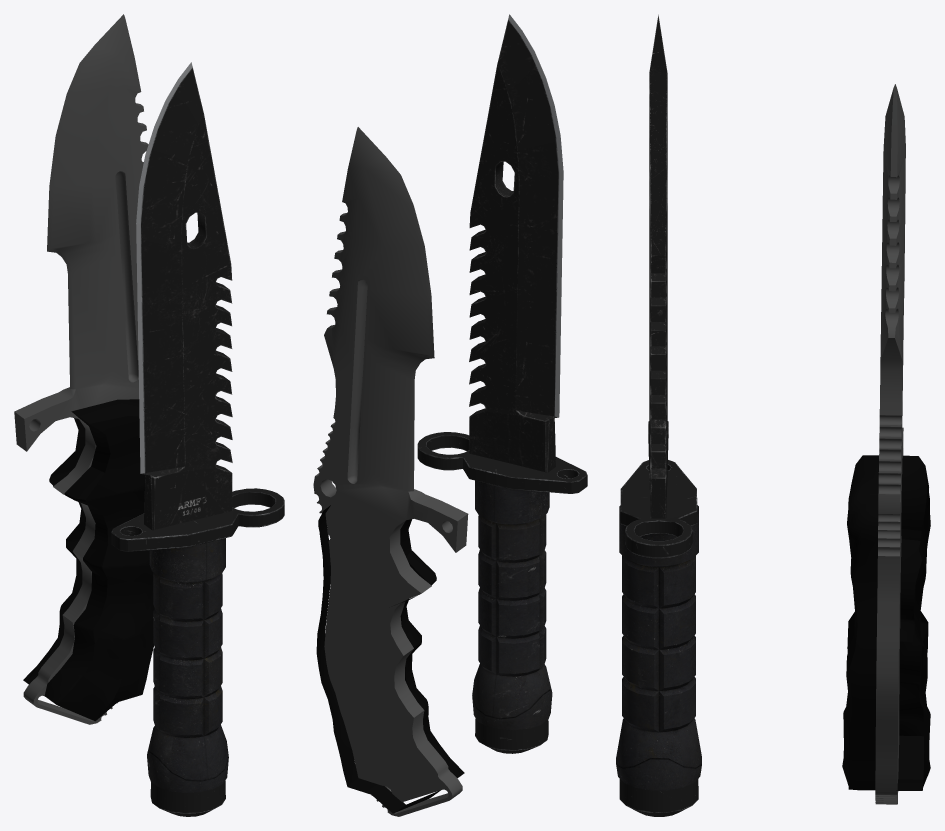
Rendered from weapon_knife.glb.
3 renders of one model, left to right at view 1: azimuth 30°, elevation 25°; view 2: azimuth 150°, elevation 25°; view 3: azimuth 270°, elevation 25°, orthographic. The views are drawn at different scales.
Parts seen in each view (by area): view 1: Knife; view 2: Knife; view 3: Knife.
Part boxes in pixels (<box>): Knife: <box>14,14,284,816</box>; Knife: <box>313,14,587,816</box>; Knife: <box>616,14,930,816</box>.
Bounding box in the file's own units: 0.0691 × 0.2984 × 0.1071.
3 materials, 3 textured.
